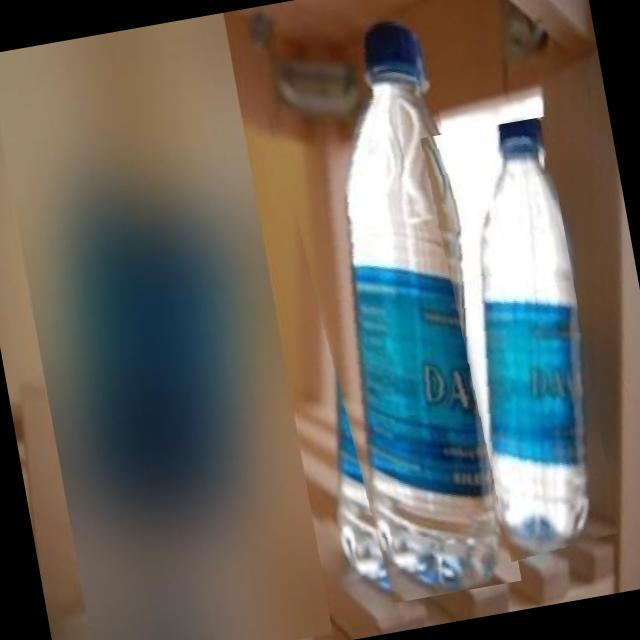plastic bottle: (346, 24, 504, 595), (483, 117, 590, 551)
